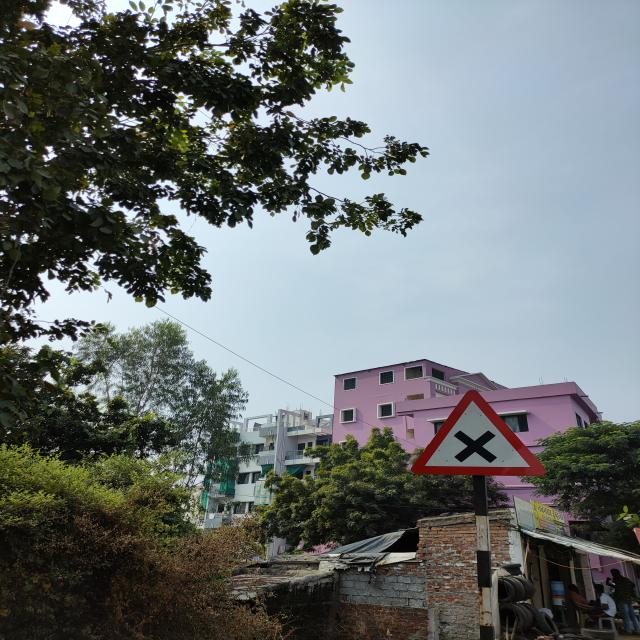cross_road: (404, 386, 557, 485)
